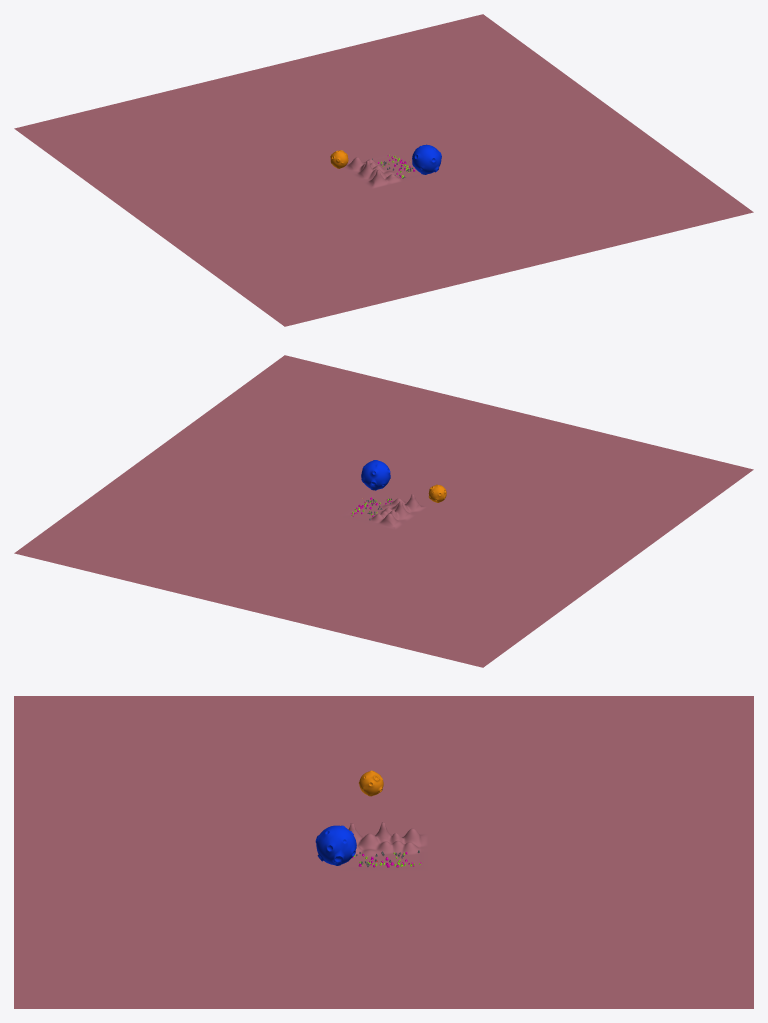
The model's file is mars.glb.
3 renders of one model, top to bottom at view 1: azimuth 30°, elevation 25°; view 2: azimuth 150°, elevation 25°; view 3: azimuth 270°, elevation 25°, orthographic. The views are drawn at different scales.
Parts seen in each view (by area): view 1: sol, Planette_2; view 2: sol, Planette_2; view 3: sol, Planette_2.
Part boxes in pixels (bbox=[...]): sol: bbox=[14, 14, 753, 326]; Planette_2: bbox=[412, 144, 441, 174]; sol: bbox=[14, 355, 753, 667]; Planette_2: bbox=[361, 460, 390, 490]; sol: bbox=[14, 696, 753, 1008]; Planette_2: bbox=[315, 825, 356, 865].
Bounding box in the file's own units: 1427 × 102 × 1427.
